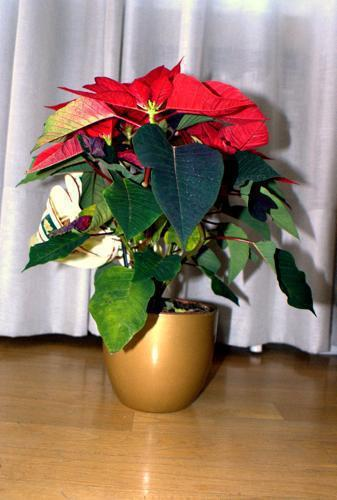Matera: (38, 65, 308, 411)
